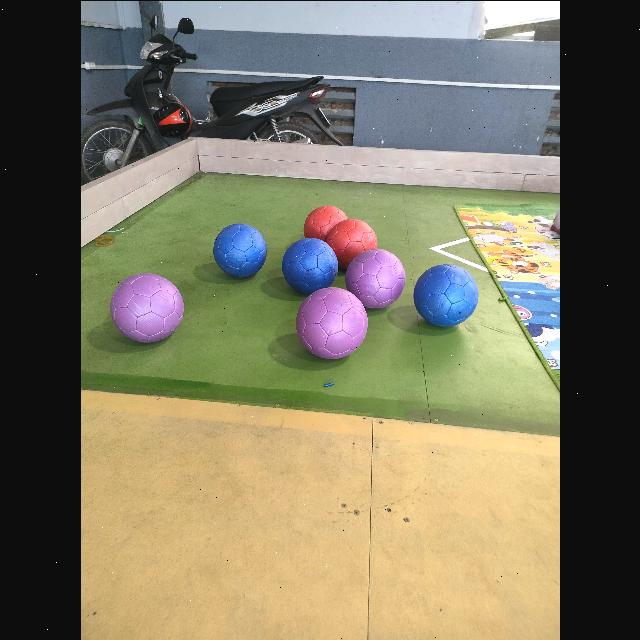B: (414, 263, 478, 325), (282, 236, 338, 292), (213, 222, 267, 276)
P: (296, 286, 366, 358), (110, 272, 183, 341), (344, 250, 406, 310)
R: (323, 218, 377, 270), (302, 204, 346, 248)
